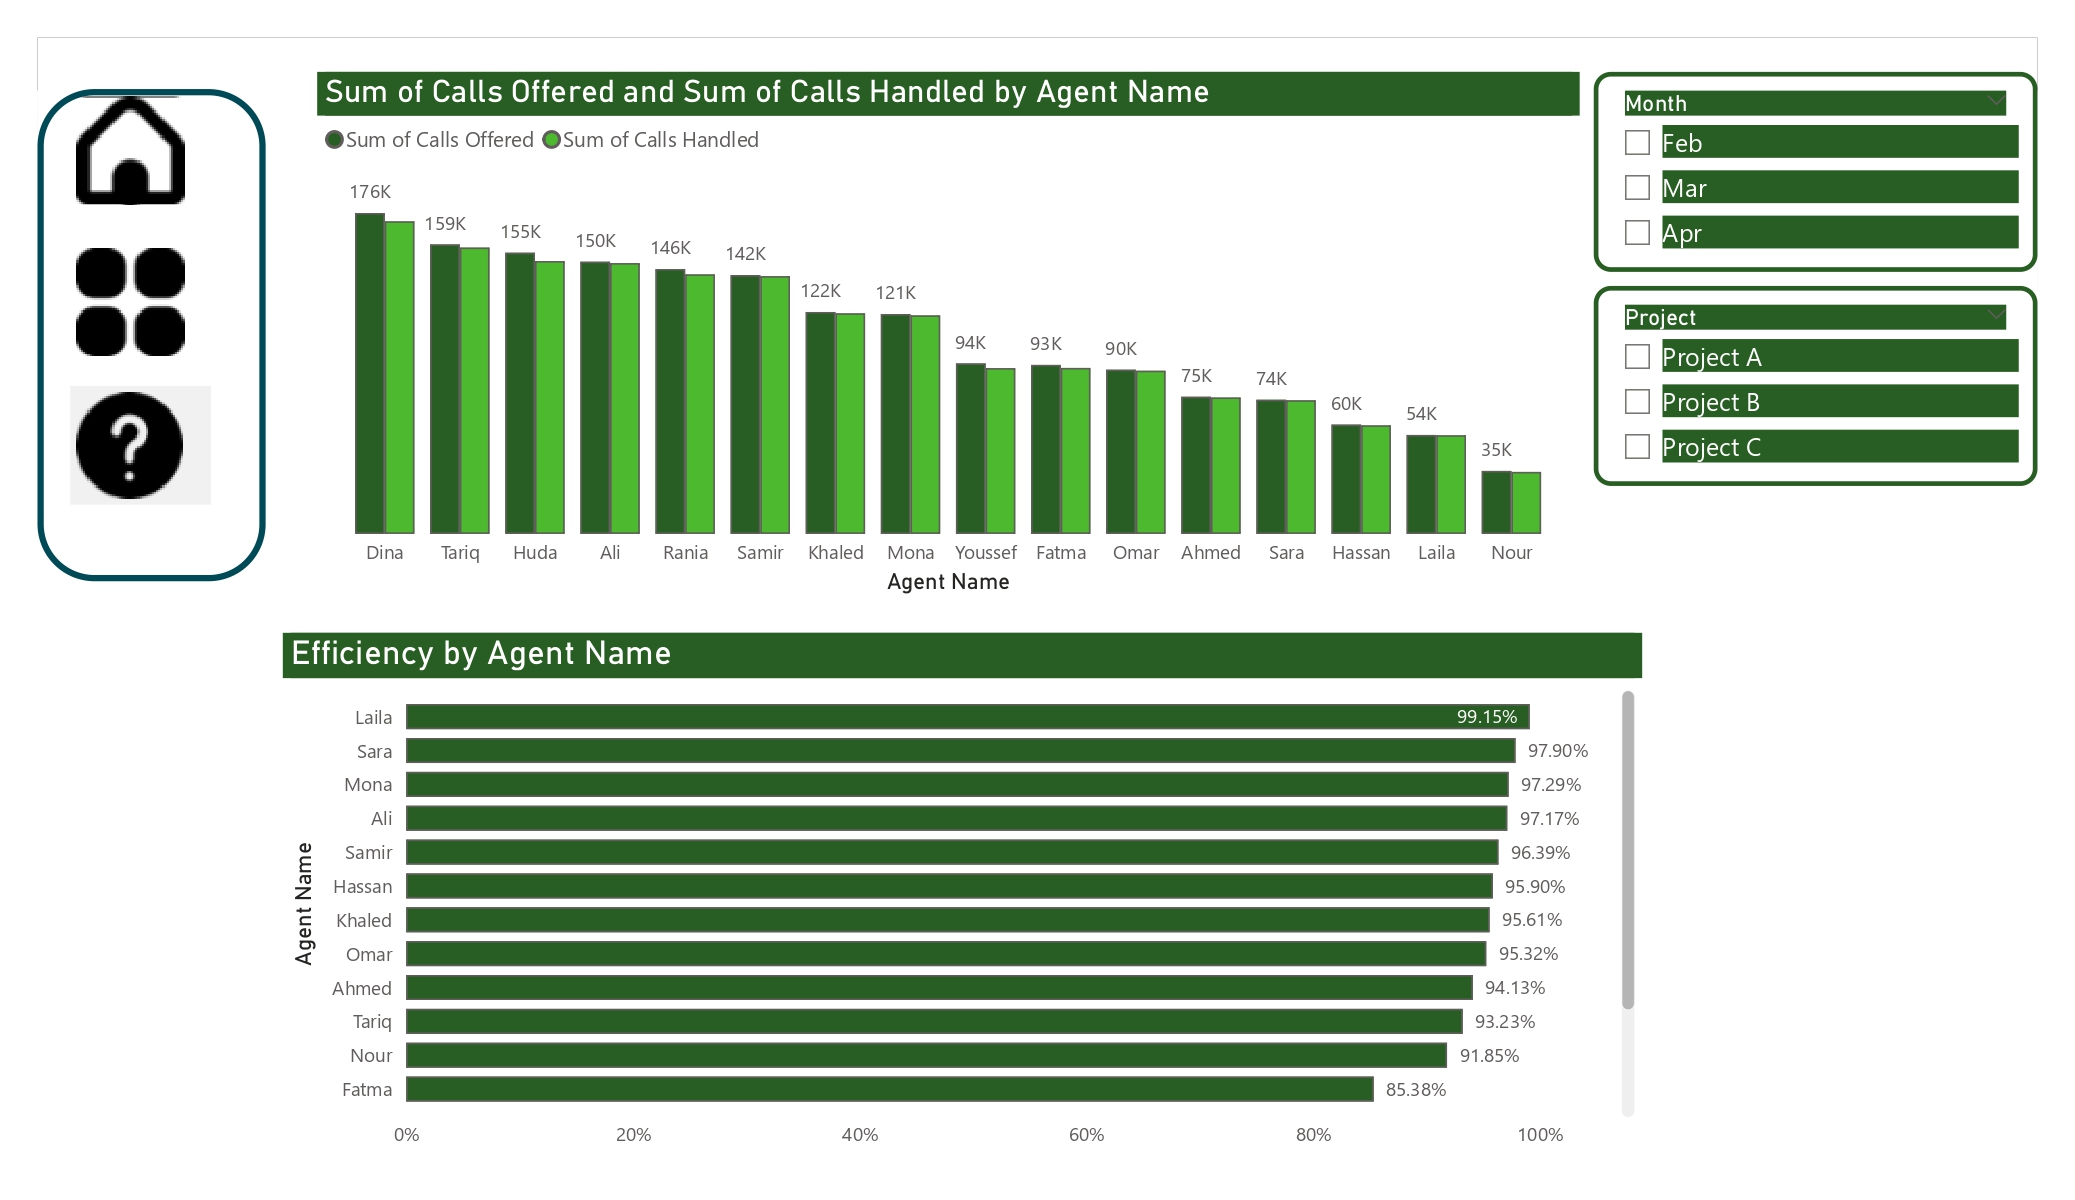

The page's visual inventory and layout, read from the dashboard file:
{"tool":"powerbi","page":{"name":"Analysis Zone","canvas":[1280,720],"ordinal":2},"visuals":[{"type":"shape","box":[0,32.8,146.3,314.9],"z":0},{"type":"actionButton","box":[20.6,34.4,125.2,77.1],"z":1000},{"type":"actionButton","box":[20.6,130.8,125.2,77.1],"z":2000},{"type":"actionButton","box":[20.6,223,90.8,75.7],"z":3000},{"type":"clusteredColumnChart","fields":{"Category":["Sailh project powr BI (2).Agent Name"],"Y":["Sum(Sailh project powr BI (2).Calls Offered)","Sum(Sailh project powr BI (2).Calls Handled)"]},"box":[178.9,22,807.9,338.6],"z":6000},{"type":"clusteredBarChart","fields":{"Category":["Sailh project powr BI (2).Agent Name"],"Y":["Sailh project powr BI (2).Efficiency"]},"box":[157,381,870,339],"z":7000},{"type":"slicer","fields":{"Values":["Sailh project powr BI (2).Month"]},"box":[996.5,22,283.5,128],"z":8000},{"type":"slicer","fields":{"Values":["Sailh project powr BI (2).Project"]},"box":[996,159,284,128],"z":9000}]}

Visuals, with their boxes on the page's 1280x720 design canvas (x1, y1, x2, y2). These are canvas units, not pixel positions in the 2075x1200 screenshot, which may show the page scaled, cropped or inside an application window:
shape: region(0, 33, 146, 348)
actionButton: region(21, 34, 146, 112)
actionButton: region(21, 131, 146, 208)
actionButton: region(21, 223, 111, 299)
clusteredColumnChart - Sailh project powr BI (2).Agent Name x Sum(Sailh project powr BI (2).Calls Offered): region(179, 22, 987, 361)
clusteredBarChart - Sailh project powr BI (2).Agent Name x Sailh project powr BI (2).Efficiency: region(157, 381, 1027, 720)
slicer - Sailh project powr BI (2).Month: region(996, 22, 1280, 150)
slicer - Sailh project powr BI (2).Project: region(996, 159, 1280, 287)
